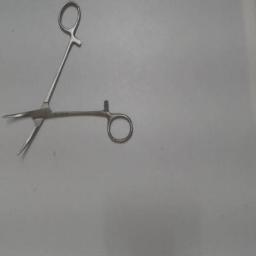Crile Artery Forceps: (2, 1, 134, 163)
